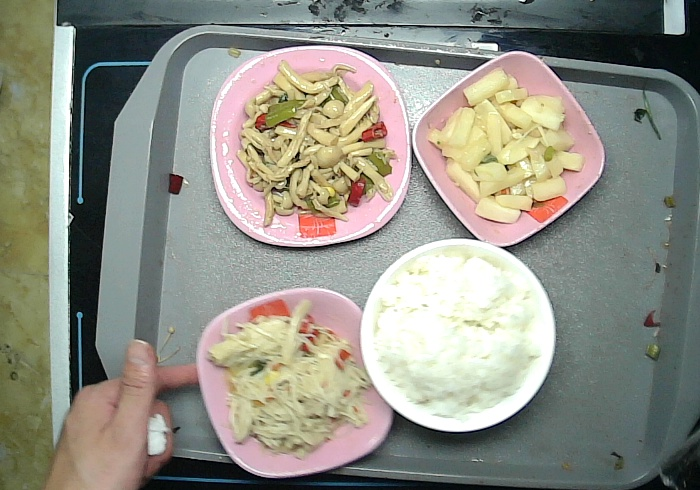SHKJ-Fan_Wan: (359, 237, 557, 432)
SHKJ-Fen_Se_Cai_Die: (197, 287, 396, 473)
SHKJ-Fen_Se_Si_Fang_Cai_Die: (211, 45, 411, 243)
SHKJ-Fen_Se_Xiao_Fang_Die: (412, 49, 606, 249)
